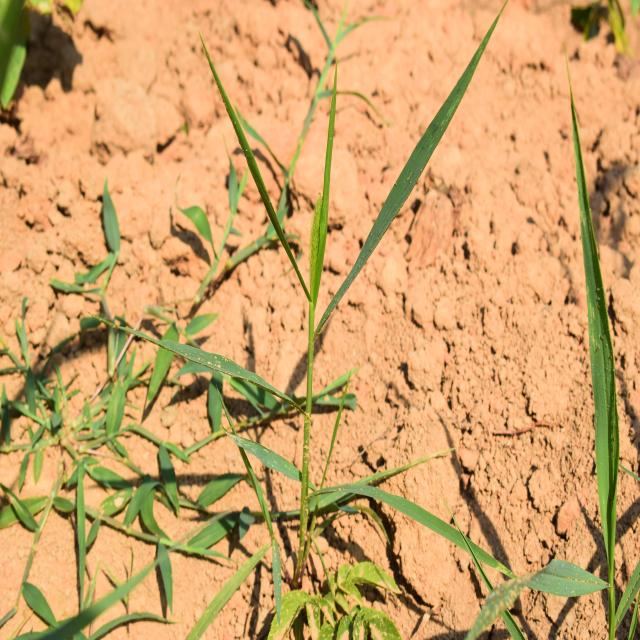green_foxtail: (241, 72, 470, 560)
